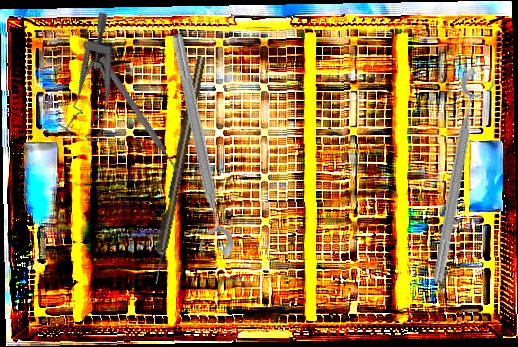Fixation Ring: (153, 31, 236, 263), (425, 66, 499, 287)
Hook Surgical: (148, 55, 208, 285)
Pusher: (97, 55, 185, 180)
Speculum: (45, 9, 149, 147)
